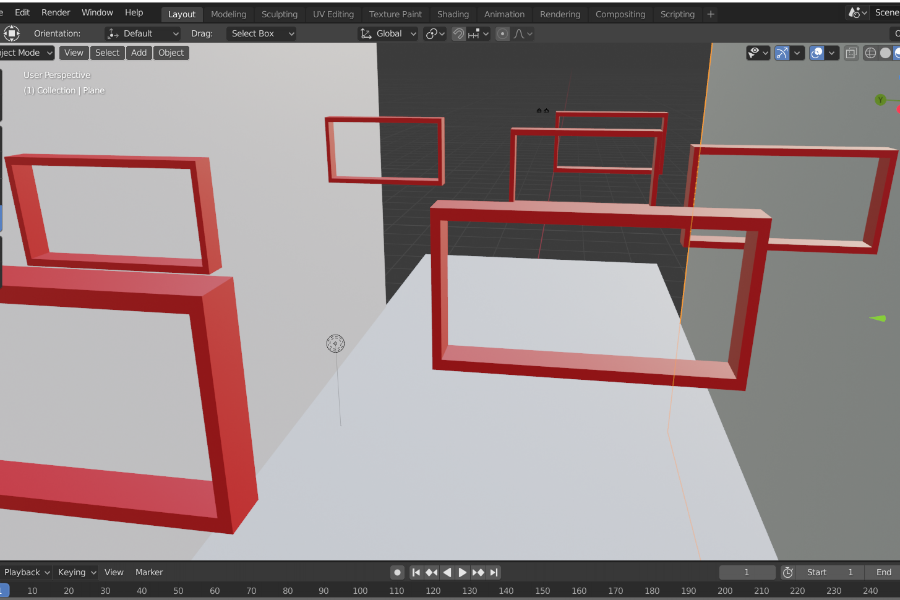GATE: (2, 261, 260, 537), (427, 201, 774, 391), (5, 147, 239, 278), (686, 137, 895, 261), (504, 121, 662, 215), (318, 114, 445, 187), (554, 101, 674, 175)
